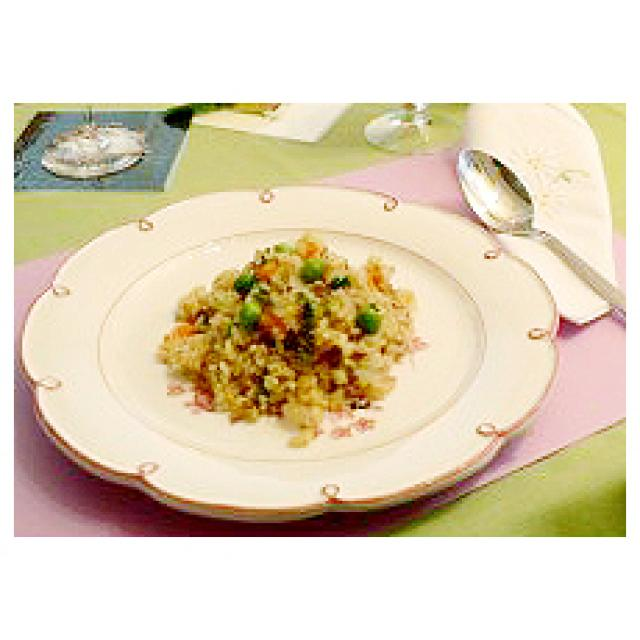米饭主食: (14, 173, 559, 512)
